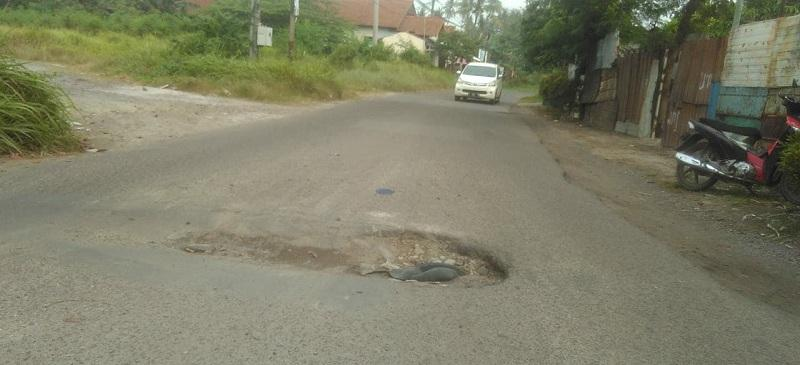Pothole: (191, 221, 573, 288)
